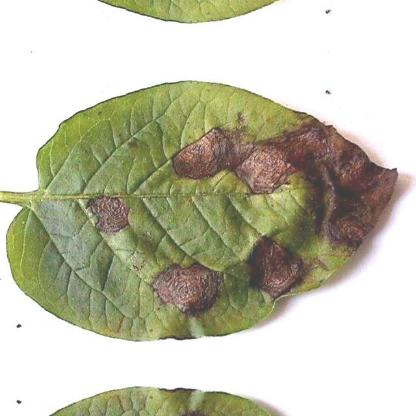Early-Blight: (9, 77, 405, 347)
